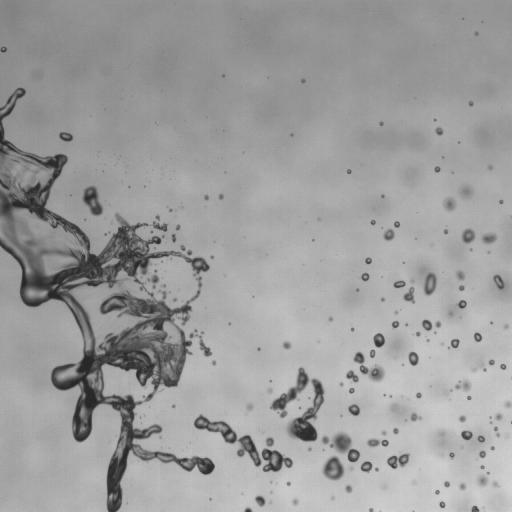droplet: (82, 185, 103, 216), (321, 455, 346, 481), (386, 453, 410, 469), (422, 272, 436, 295), (458, 184, 473, 200), (454, 379, 471, 392), (403, 285, 415, 303), (442, 196, 456, 211), (461, 228, 475, 243), (344, 368, 358, 383), (476, 471, 489, 487), (481, 232, 497, 244), (372, 333, 385, 347), (493, 274, 504, 289), (447, 337, 460, 349), (408, 351, 418, 366), (348, 404, 360, 416), (360, 461, 372, 473), (383, 228, 394, 241), (421, 319, 432, 331), (254, 495, 265, 507), (59, 132, 73, 141), (461, 430, 472, 441), (56, 142, 67, 153), (96, 193, 107, 204), (453, 195, 464, 206), (136, 227, 147, 238), (471, 236, 482, 247), (90, 244, 101, 255), (413, 287, 424, 298), (381, 326, 392, 337), (461, 333, 472, 344), (188, 342, 199, 353), (72, 351, 83, 362), (363, 357, 374, 368), (459, 369, 470, 380), (303, 383, 314, 394), (71, 384, 82, 395), (347, 393, 358, 404), (284, 400, 295, 411), (411, 401, 422, 412), (92, 404, 103, 415), (110, 409, 121, 420), (131, 418, 142, 429), (63, 421, 74, 432), (342, 425, 353, 436), (484, 430, 495, 441), (485, 433, 496, 444), (310, 438, 321, 449), (254, 439, 265, 450), (384, 445, 395, 456), (326, 446, 337, 457), (336, 451, 347, 462), (338, 474, 349, 485), (118, 477, 129, 488), (466, 477, 477, 488), (285, 486, 296, 497), (244, 402, 254, 414), (393, 280, 405, 289), (410, 412, 422, 421), (455, 270, 465, 280), (502, 407, 511, 418), (359, 272, 369, 281), (473, 332, 482, 342), (437, 429, 448, 437), (208, 191, 217, 200), (81, 203, 90, 212), (436, 203, 445, 212), (443, 209, 452, 218), (166, 224, 175, 233), (483, 225, 492, 234), (473, 233, 482, 242), (361, 263, 370, 272), (457, 290, 466, 299), (48, 297, 57, 306), (493, 320, 502, 329), (182, 324, 191, 333), (190, 337, 199, 346), (350, 362, 359, 371), (181, 363, 190, 372), (382, 368, 391, 377), (306, 370, 315, 379), (178, 373, 187, 382), (466, 373, 475, 382), (288, 378, 297, 387), (344, 378, 353, 387), (457, 388, 466, 397), (460, 421, 469, 430), (315, 428, 324, 437), (326, 430, 335, 439), (385, 431, 394, 440), (232, 440, 241, 449), (480, 441, 489, 450), (318, 455, 327, 464), (99, 467, 108, 476), (98, 480, 107, 489), (449, 480, 458, 489), (249, 500, 258, 509), (456, 300, 466, 308), (281, 341, 291, 349), (435, 126, 443, 135), (389, 403, 398, 411), (368, 348, 375, 358), (469, 505, 480, 511), (251, 505, 262, 511), (289, 505, 300, 511), (478, 450, 486, 458), (458, 482, 466, 490), (392, 320, 399, 329), (443, 388, 452, 395), (477, 435, 486, 442), (345, 484, 352, 493), (500, 362, 507, 370), (504, 400, 511, 408), (494, 413, 502, 420), (458, 415, 466, 422), (491, 480, 499, 487), (291, 498, 299, 505), (438, 501, 445, 509), (0, 95, 5, 106), (0, 214, 5, 225), (266, 387, 273, 394), (6, 87, 13, 94), (434, 120, 441, 127), (431, 121, 438, 128), (2, 133, 9, 140), (14, 141, 21, 148), (29, 147, 36, 154), (48, 150, 55, 157), (61, 164, 68, 171), (53, 177, 60, 184), (82, 181, 89, 188), (49, 184, 56, 191), (77, 190, 84, 197), (44, 202, 51, 209), (450, 208, 457, 215), (89, 213, 96, 220), (96, 213, 103, 220), (64, 214, 71, 221), (92, 214, 99, 221), (72, 218, 79, 225), (128, 218, 135, 225), (78, 223, 85, 230), (460, 223, 467, 230), (134, 227, 141, 234), (154, 229, 161, 236), (84, 230, 91, 237), (455, 234, 462, 241), (468, 240, 475, 247), (485, 242, 492, 249), (172, 244, 179, 251), (4, 252, 11, 259), (205, 257, 212, 264), (11, 259, 18, 266), (463, 271, 470, 278), (14, 278, 21, 285), (401, 286, 408, 293), (40, 301, 47, 308), (27, 305, 34, 312), (390, 314, 397, 321), (417, 325, 424, 332), (285, 335, 292, 342), (362, 351, 369, 358), (205, 355, 212, 362), (58, 358, 65, 365), (493, 360, 500, 367), (180, 368, 187, 375), (353, 368, 360, 375), (179, 371, 186, 378), (177, 377, 184, 384), (320, 381, 327, 388), (157, 382, 164, 389), (282, 386, 289, 393), (55, 388, 62, 395), (273, 391, 280, 398), (295, 391, 302, 398), (70, 398, 77, 405), (306, 400, 313, 407), (68, 406, 75, 413), (132, 406, 139, 413), (315, 409, 322, 416), (296, 410, 303, 417), (207, 414, 214, 421), (491, 418, 498, 425), (214, 431, 221, 438), (235, 431, 242, 438), (150, 432, 157, 439), (67, 433, 74, 440), (376, 433, 383, 440), (470, 434, 477, 441), (84, 436, 91, 443), (295, 437, 302, 444), (305, 439, 312, 446), (349, 442, 356, 449), (484, 448, 491, 455), (281, 450, 288, 457), (175, 451, 182, 458), (185, 451, 192, 458), (198, 451, 205, 458), (151, 457, 158, 464), (356, 457, 363, 464), (478, 457, 485, 464), (260, 458, 267, 465), (169, 460, 176, 467), (486, 474, 493, 481), (328, 478, 335, 485), (485, 480, 492, 487), (438, 484, 445, 491), (120, 494, 127, 501), (435, 494, 442, 501), (171, 233, 176, 242), (506, 361, 511, 370), (166, 206, 173, 212), (365, 257, 371, 264), (435, 320, 441, 327), (488, 359, 494, 366), (348, 386, 354, 393), (381, 483, 388, 489), (449, 451, 454, 459), (0, 46, 6, 52), (434, 166, 440, 172), (393, 221, 399, 227), (415, 392, 421, 398), (444, 481, 450, 487), (0, 230, 4, 239), (218, 193, 223, 200), (204, 194, 209, 201), (458, 285, 465, 290), (393, 427, 398, 434), (468, 100, 473, 106), (370, 219, 375, 225), (175, 224, 180, 230), (409, 278, 415, 283), (503, 324, 509, 329), (415, 331, 420, 337), (211, 359, 216, 365), (381, 430, 387, 435), (507, 394, 511, 401), (101, 507, 108, 511), (437, 507, 444, 511), (172, 297, 177, 302), (448, 311, 453, 316), (328, 316, 333, 321), (300, 73, 305, 78), (20, 83, 25, 88), (23, 85, 28, 90), (21, 94, 26, 99), (3, 95, 8, 100), (16, 97, 21, 102), (10, 109, 15, 114), (1, 117, 6, 122), (441, 126, 446, 131), (66, 128, 71, 133), (432, 132, 437, 137), (54, 133, 59, 138), (436, 134, 441, 139), (60, 139, 65, 144), (63, 140, 68, 145), (55, 149, 60, 154), (429, 167, 434, 172), (199, 194, 204, 199), (222, 194, 227, 199), (216, 198, 221, 203), (147, 219, 152, 224), (158, 220, 163, 225), (148, 224, 153, 229), (382, 226, 387, 231), (392, 226, 397, 231), (112, 228, 117, 233), (379, 229, 384, 234), (107, 233, 112, 238), (160, 237, 165, 242), (389, 238, 394, 243), (386, 239, 391, 244), (182, 250, 187, 255), (189, 253, 194, 258), (16, 265, 21, 270), (17, 269, 22, 274), (198, 270, 203, 275), (422, 272, 427, 277), (488, 274, 493, 279), (394, 276, 399, 281), (200, 278, 205, 283), (435, 279, 440, 284), (458, 279, 463, 284), (491, 282, 496, 287), (431, 290, 436, 295), (194, 297, 199, 302), (18, 299, 23, 304), (406, 300, 411, 305), (20, 302, 25, 307), (454, 305, 459, 310), (69, 314, 74, 319), (323, 314, 328, 319), (425, 315, 430, 320), (71, 319, 76, 324), (417, 319, 422, 324), (329, 320, 334, 325), (430, 320, 435, 325), (398, 321, 403, 326), (440, 321, 445, 326), (179, 324, 184, 329), (372, 329, 377, 334), (479, 330, 484, 335), (382, 332, 387, 337), (451, 334, 456, 339), (184, 335, 189, 340), (383, 335, 388, 340), (282, 336, 287, 341), (278, 340, 283, 345), (289, 341, 294, 346), (204, 342, 209, 347), (371, 344, 376, 349), (380, 344, 385, 349), (374, 346, 379, 351), (281, 347, 286, 352), (199, 349, 204, 354), (416, 351, 421, 356), (350, 352, 355, 357), (184, 353, 189, 358), (417, 357, 422, 362), (63, 359, 68, 364), (404, 359, 409, 364), (484, 362, 489, 367), (47, 367, 52, 372), (477, 367, 482, 372), (343, 368, 348, 373), (46, 377, 51, 382), (267, 382, 272, 387), (449, 383, 454, 388), (169, 385, 174, 390), (452, 388, 457, 393), (465, 390, 470, 395), (322, 392, 327, 397), (152, 393, 157, 398), (347, 400, 352, 405), (241, 403, 246, 408), (319, 403, 324, 408), (251, 407, 256, 412), (358, 409, 363, 414), (247, 410, 252, 415), (415, 410, 420, 415), (459, 410, 464, 415), (202, 412, 207, 417), (347, 412, 352, 417), (193, 413, 198, 418), (352, 414, 357, 419), (405, 414, 410, 419), (406, 417, 411, 422), (464, 417, 469, 422), (90, 418, 95, 423), (414, 418, 419, 423), (156, 420, 161, 425), (489, 423, 494, 428), (230, 425, 235, 430), (194, 427, 199, 432), (397, 427, 402, 432), (496, 427, 501, 432), (202, 428, 207, 433), (159, 430, 164, 435), (490, 430, 495, 435), (267, 432, 272, 437), (113, 436, 118, 441), (458, 436, 463, 441), (461, 438, 466, 443), (225, 441, 230, 446), (268, 445, 273, 450), (165, 448, 170, 453), (400, 449, 405, 454), (127, 450, 132, 455), (232, 452, 237, 457), (395, 452, 400, 457), (474, 452, 479, 457), (235, 455, 240, 460), (407, 455, 412, 460), (211, 458, 216, 463), (140, 459, 145, 464), (280, 462, 285, 467), (291, 462, 296, 467), (371, 462, 376, 467), (404, 462, 409, 467), (193, 465, 198, 470), (386, 465, 391, 470), (369, 467, 374, 472), (181, 468, 186, 473), (211, 468, 216, 473), (481, 468, 486, 473), (268, 469, 273, 474), (361, 470, 366, 475), (199, 472, 204, 477), (204, 473, 209, 478), (445, 476, 450, 481), (448, 479, 453, 484), (465, 483, 470, 488), (350, 484, 355, 489), (492, 486, 497, 491), (460, 489, 465, 494), (258, 491, 263, 496), (347, 491, 352, 496), (263, 496, 268, 501), (287, 497, 292, 502), (297, 500, 302, 505), (293, 504, 298, 509), (240, 505, 245, 510), (0, 246, 3, 253), (301, 78, 305, 83), (488, 165, 492, 170), (317, 216, 321, 221), (443, 229, 447, 234), (380, 297, 385, 301), (350, 326, 354, 331), (307, 446, 311, 451), (480, 465, 485, 469), (286, 481, 290, 486), (434, 490, 439, 494), (330, 495, 334, 500), (368, 507, 373, 511), (474, 31, 478, 35), (379, 121, 383, 125), (347, 169, 351, 173), (210, 255, 214, 259), (394, 310, 398, 314), (404, 322, 408, 326), (339, 382, 343, 386), (467, 395, 471, 399), (490, 446, 494, 450), (374, 467, 378, 471), (426, 337, 429, 342), (508, 323, 511, 328), (116, 508, 121, 511), (239, 508, 244, 511), (372, 508, 377, 511), (478, 508, 483, 511), (221, 74, 225, 77), (290, 133, 293, 137), (381, 194, 384, 198), (499, 200, 503, 203), (110, 220, 113, 224), (486, 250, 490, 253), (440, 342, 444, 345), (257, 347, 260, 351), (171, 404, 175, 407), (460, 445, 463, 449), (433, 118, 436, 121), (469, 248, 472, 251), (356, 288, 359, 291), (490, 321, 493, 324), (228, 322, 231, 325), (433, 331, 436, 334), (317, 340, 320, 343), (401, 363, 404, 366), (383, 393, 386, 396), (389, 394, 392, 397), (307, 396, 310, 399), (298, 406, 301, 409), (404, 418, 407, 421), (489, 421, 492, 424), (269, 480, 272, 483), (475, 28, 478, 31), (471, 30, 474, 33), (474, 35, 477, 38), (4, 44, 7, 47), (2, 51, 5, 54), (224, 74, 227, 77), (220, 76, 223, 79), (304, 77, 307, 80), (297, 79, 300, 82), (302, 82, 305, 85), (465, 102, 468, 105), (472, 102, 475, 105), (469, 105, 472, 108), (434, 115, 437, 118), (378, 118, 381, 121), (430, 118, 433, 121), (376, 122, 379, 125), (382, 122, 385, 125), (379, 125, 382, 128), (288, 130, 291, 133), (442, 130, 445, 133), (292, 131, 295, 134), (292, 134, 295, 137), (288, 135, 291, 138), (454, 140, 457, 143), (457, 143, 460, 146), (438, 164, 441, 167), (347, 165, 350, 168), (343, 170, 346, 173), (350, 170, 353, 173), (438, 170, 441, 173), (434, 171, 437, 174), (347, 173, 350, 176), (129, 183, 132, 186), (140, 184, 143, 187), (124, 185, 127, 188), (203, 191, 206, 194), (380, 191, 383, 194), (207, 193, 210, 196), (215, 194, 218, 197), (377, 194, 380, 197), (383, 195, 386, 198), (208, 196, 211, 199), (499, 196, 502, 199), (380, 197, 383, 200), (203, 199, 206, 202), (502, 200, 505, 203), (498, 203, 501, 206), (169, 205, 172, 208), (165, 207, 168, 210), (171, 209, 174, 212), (168, 211, 171, 214), (153, 212, 156, 215), (374, 218, 377, 221), (393, 218, 396, 221), (139, 220, 142, 223), (399, 222, 402, 225), (368, 223, 371, 226), (373, 223, 376, 226), (166, 225, 169, 228), (445, 226, 448, 229), (178, 227, 181, 230), (440, 230, 443, 233), (447, 230, 450, 233), (444, 233, 447, 236), (174, 234, 177, 237), (311, 235, 314, 238), (308, 238, 311, 241), (312, 240, 315, 243), (468, 250, 471, 253), (211, 252, 214, 255), (368, 254, 371, 257), (213, 255, 216, 258), (402, 258, 405, 261), (362, 260, 365, 263), (399, 260, 402, 263), (365, 263, 368, 266), (401, 263, 404, 266), (361, 270, 364, 273), (492, 272, 495, 275), (358, 273, 361, 276), (368, 274, 371, 277), (500, 276, 503, 279), (399, 277, 402, 280), (359, 278, 362, 281), (402, 278, 405, 281), (364, 280, 367, 283), (390, 282, 393, 285), (353, 286, 356, 289), (501, 287, 504, 290), (456, 288, 459, 291), (461, 289, 464, 292), (199, 290, 202, 293), (355, 291, 358, 294), (251, 292, 254, 295), (248, 294, 251, 297), (383, 295, 386, 298), (377, 297, 380, 300), (464, 298, 467, 301), (456, 299, 459, 302), (382, 300, 385, 303), (464, 305, 467, 308), (396, 307, 399, 310), (458, 307, 461, 310), (461, 307, 464, 310), (391, 308, 394, 311), (332, 316, 335, 319), (490, 318, 493, 321), (225, 320, 228, 323), (326, 320, 329, 323), (486, 320, 489, 323), (407, 321, 410, 324), (230, 322, 233, 325), (225, 323, 228, 326), (488, 323, 491, 326), (351, 324, 354, 327), (389, 324, 392, 327), (405, 325, 408, 328), (395, 326, 398, 329), (347, 327, 350, 330), (202, 328, 205, 331), (353, 328, 356, 331), (412, 330, 415, 333), (471, 331, 474, 334), (413, 334, 416, 337), (457, 336, 460, 339), (471, 336, 474, 339), (479, 339, 482, 342), (428, 340, 431, 343), (476, 341, 479, 344), (457, 343, 460, 346), (254, 346, 257, 349), (259, 346, 262, 349), (209, 348, 212, 351), (215, 361, 218, 364), (209, 362, 212, 365), (472, 364, 475, 367), (489, 364, 492, 367), (505, 365, 508, 368), (499, 368, 502, 371), (482, 371, 485, 374), (269, 376, 272, 379), (266, 377, 269, 380), (459, 377, 462, 380), (271, 379, 274, 382), (336, 383, 339, 386), (346, 387, 349, 390), (446, 387, 449, 390), (353, 388, 356, 391), (416, 389, 419, 392), (382, 390, 385, 393), (413, 391, 416, 394), (448, 391, 451, 394), (350, 392, 353, 395), (385, 394, 388, 397), (391, 394, 394, 397), (420, 395, 423, 398), (388, 397, 391, 400), (416, 397, 419, 400), (467, 399, 470, 402), (169, 402, 172, 405), (171, 407, 174, 410), (487, 418, 490, 421), (507, 421, 510, 424), (395, 425, 398, 428), (479, 432, 482, 435), (482, 434, 485, 437), (387, 442, 390, 445), (493, 444, 496, 447), (491, 449, 494, 452), (308, 450, 311, 453), (446, 451, 449, 454), (447, 455, 450, 458), (453, 455, 456, 458), (286, 478, 289, 481), (290, 481, 293, 484), (497, 481, 500, 484), (267, 482, 270, 485), (283, 482, 286, 485), (286, 485, 289, 488), (435, 486, 438, 489), (438, 491, 441, 494), (209, 494, 212, 497), (205, 497, 208, 500), (211, 497, 214, 500), (442, 499, 445, 502), (369, 504, 372, 507), (444, 504, 447, 507), (437, 505, 440, 508), (476, 505, 479, 508), (411, 506, 414, 509), (441, 156, 444, 158), (451, 171, 454, 173), (402, 261, 405, 263), (340, 414, 342, 417), (322, 448, 325, 450), (270, 490, 272, 493), (240, 492, 243, 494), (209, 497, 211, 500), (366, 509, 369, 511), (414, 509, 417, 511), (458, 141, 460, 143), (224, 171, 226, 173), (128, 186, 130, 188), (84, 218, 86, 220), (312, 239, 314, 241), (252, 295, 254, 297), (269, 380, 271, 382), (139, 416, 141, 418), (489, 416, 491, 418), (0, 44, 1, 47), (0, 50, 1, 53), (144, 185, 145, 187), (430, 385, 431, 387), (412, 510, 414, 511), (510, 377, 511, 378)
ligament: (192, 414, 293, 472), (319, 431, 360, 471), (353, 351, 385, 381), (366, 438, 388, 447), (493, 426, 500, 437), (243, 506, 253, 511), (258, 428, 265, 434), (481, 506, 485, 511), (70, 193, 71, 196), (510, 420, 511, 423), (378, 510, 381, 511), (407, 398, 409, 399)
